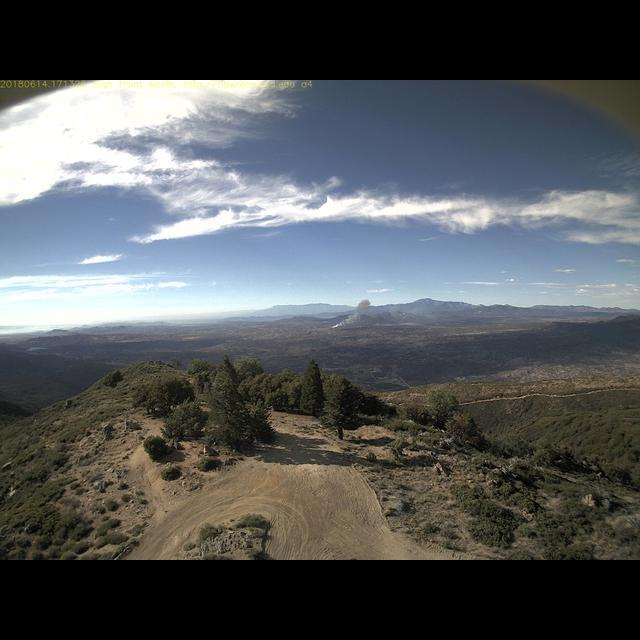Smoke: (326, 297, 377, 333)
